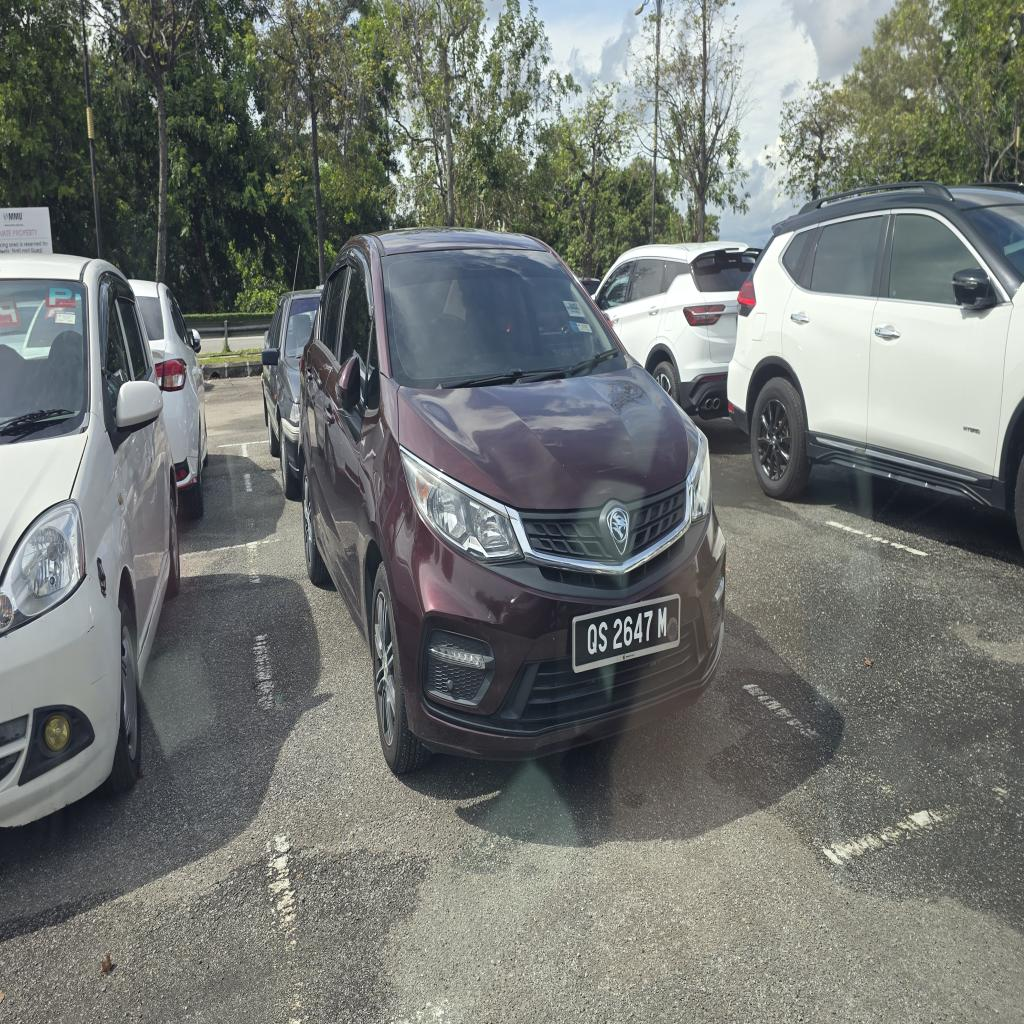car: (301, 231, 726, 772)
car plate: (572, 595, 680, 672)
